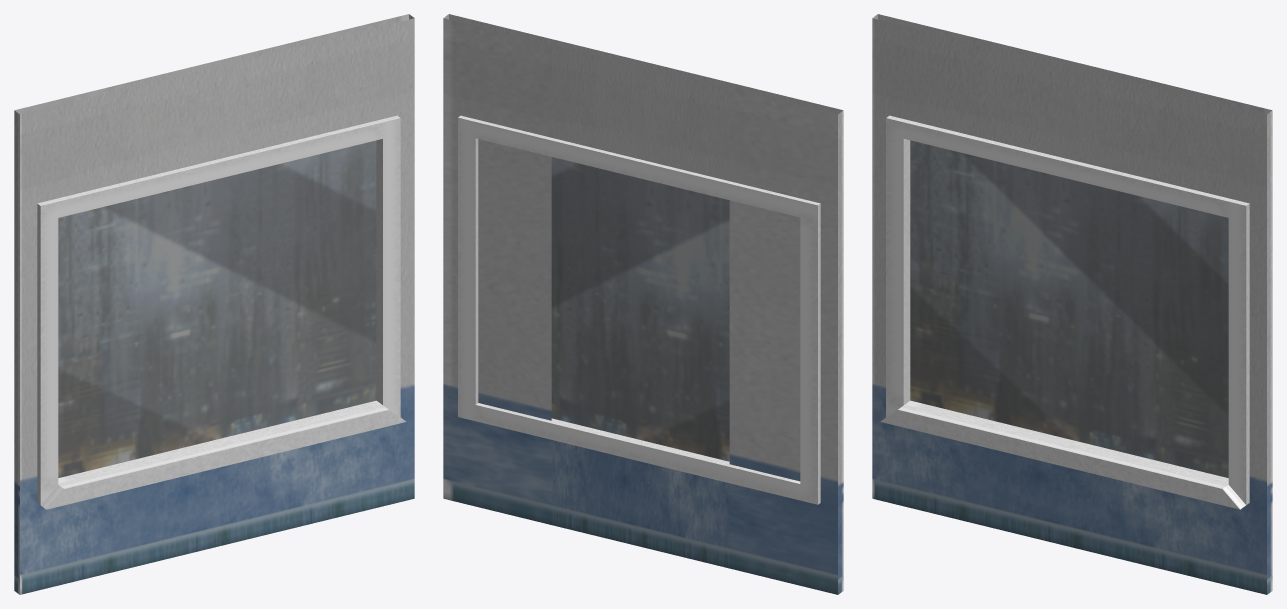
Rendered from Wall_tall_fenetreB.FBX.
3 views of the same model, side by side, from view 1: azimuth 30°, elevation 25°; view 2: azimuth 150°, elevation 25°; view 3: azimuth 330°, elevation 25° (orthographic).
Visible parts, largest first — view 1: Wall_tall_fenetreB_4m; view 2: Wall_tall_fenetreB_4m; view 3: Wall_tall_fenetreB_4m.
Part boxes in pixels (<box>): Wall_tall_fenetreB_4m: <box>14,14,414,594</box>; Wall_tall_fenetreB_4m: <box>443,14,843,594</box>; Wall_tall_fenetreB_4m: <box>872,14,1272,594</box>.
Size of the model in its own units: 262 by 305 by 20.55.
